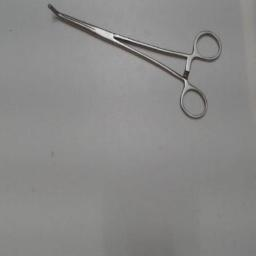Lahey Forceps: (42, 0, 224, 122)
